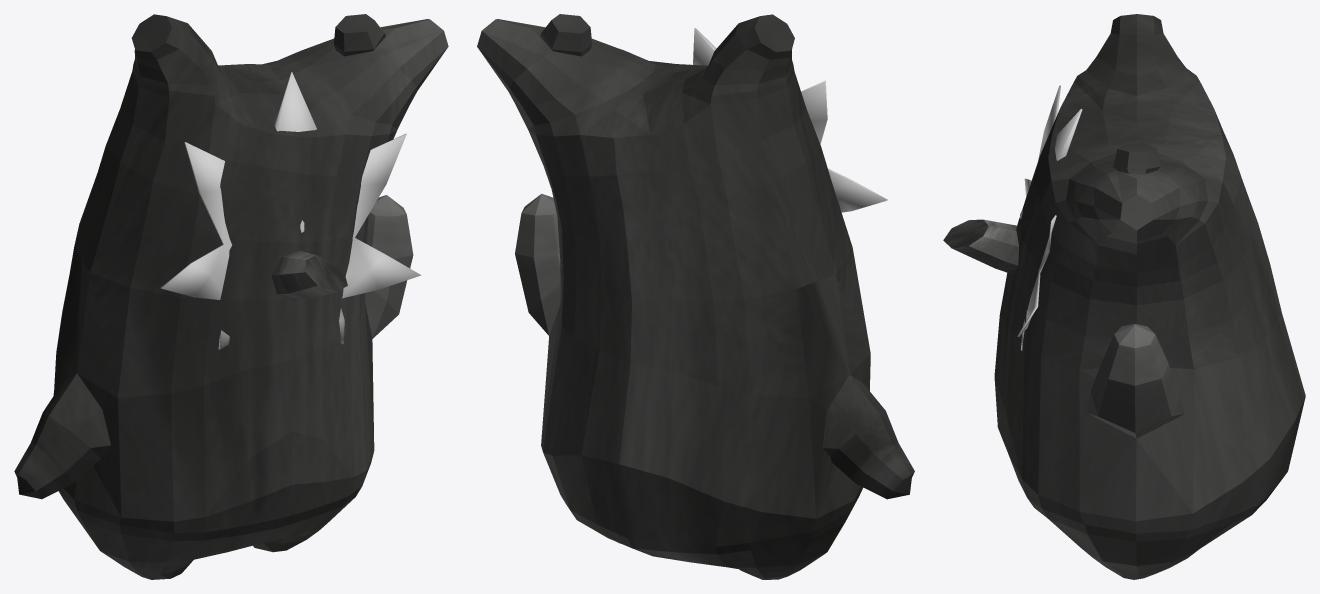
File: frame_0059.obj
The picture shows the model from 3 angles, left to right: view 1: azimuth 30°, elevation 25°; view 2: azimuth 150°, elevation 25°; view 3: azimuth 270°, elevation 25°; orthographic projection. The views are drawn at different scales.
Parts seen in each view (by area): view 1: korok, leaf.003_柱体.013, nose.003_柱体.011; view 2: korok, leaf.003_柱体.013; view 3: korok, nose.003_柱体.011, leaf.003_柱体.013.
Part boxes in pixels (x1,y1,x2,y2): korok: [14, 14, 448, 579]; leaf.003_柱体.013: [160, 72, 421, 349]; nose.003_柱体.011: [271, 250, 347, 301]; korok: [477, 14, 914, 579]; leaf.003_柱体.013: [693, 28, 887, 212]; korok: [994, 14, 1305, 579]; nose.003_柱体.011: [943, 219, 1018, 274]; leaf.003_柱体.013: [1017, 85, 1082, 350].
Size of the model in its own units: 1.71 by 2.13 by 1.36.
